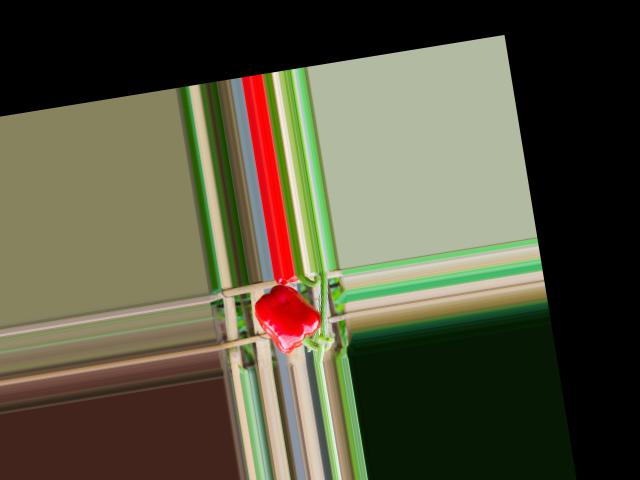bell_pepper: (246, 279, 330, 358)
